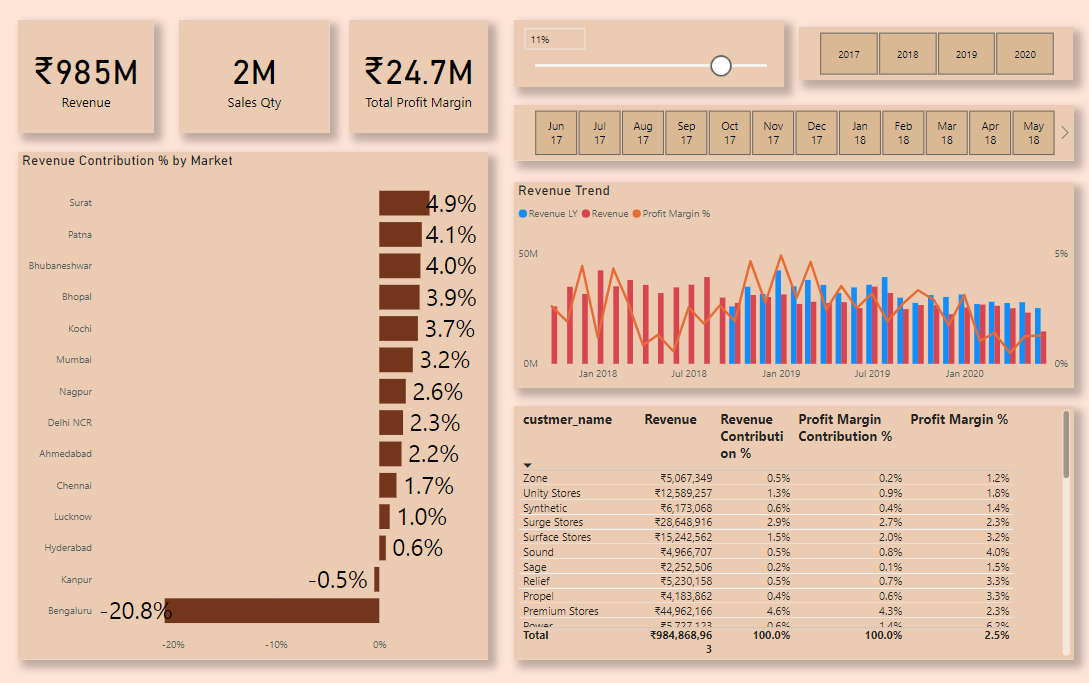

Layout of this report page (visuals, bound fields, positions):
{"tool":"powerbi","page":{"name":"Performance Insights","canvas":[1350,850],"ordinal":2},"visuals":[{"type":"card","fields":{"Values":["BaseMeasures (2).Revenue"]},"box":[26,24,166,138],"z":0},{"type":"card","fields":{"Values":["BaseMeasures (2).Sales Qty"]},"box":[222,24,184,138],"z":1000},{"type":"slicer","fields":{"Values":["sales date.year"]},"box":[980,32.5,335,65],"z":2000},{"type":"slicer","fields":{"Values":["sales date.cy_date"]},"box":[632,128,684,68],"z":3000},{"type":"tableEx","title":"Top 5 Customers","fields":{"Values":["sales customers.custmer_name","BaseMeasures (2).Revenue","BaseMeasures (2).Revenue Contribution %","BaseMeasures (2).Profit Margin Contribution %","BaseMeasures (2).Profit Margin %"]},"box":[632,496,684,310],"z":4000},{"type":"lineClusteredColumnComboChart","title":"Revenue Trend","fields":{"Category":["sales date.cy_date"],"Y":["BaseMeasures (2).Revenue LY","BaseMeasures (2).Revenue"],"Y2":["BaseMeasures (2).Profit Margin %"]},"box":[632,222,684,252],"z":5000},{"type":"card","fields":{"Values":["BaseMeasures (2).Total Profit Margin"]},"box":[430,24,170,138],"z":6000},{"type":"barChart","title":"Revenue Contribution % by Market","fields":{"Y":["BaseMeasures (2).Profit Margin %"],"Category":["sales markets.zone","sales markets.markets_name","sales customers.custmer_name","sales products.product_code"]},"box":[26,186,574,620],"z":7000},{"type":"slicer","fields":{"Values":["Profit Target.Profit Target"]},"box":[632,24,330,82],"z":8000}]}

Visuals, with their boxes in screenshot pixels (x1, y1, x2, y2), scaled from the page's 1350x850 canvas onto the 1089x683 screenshot:
card - BaseMeasures (2).Revenue: (x1=21, y1=19, x2=155, y2=130)
card - BaseMeasures (2).Sales Qty: (x1=179, y1=19, x2=328, y2=130)
slicer - sales date.year: (x1=791, y1=26, x2=1061, y2=78)
slicer - sales date.cy_date: (x1=510, y1=103, x2=1062, y2=157)
"Top 5 Customers" tableEx: (x1=510, y1=399, x2=1062, y2=648)
"Revenue Trend" lineClusteredColumnComboChart: (x1=510, y1=178, x2=1062, y2=381)
card - BaseMeasures (2).Total Profit Margin: (x1=347, y1=19, x2=484, y2=130)
"Revenue Contribution % by Market" barChart: (x1=21, y1=149, x2=484, y2=648)
slicer - Profit Target.Profit Target: (x1=510, y1=19, x2=776, y2=85)
